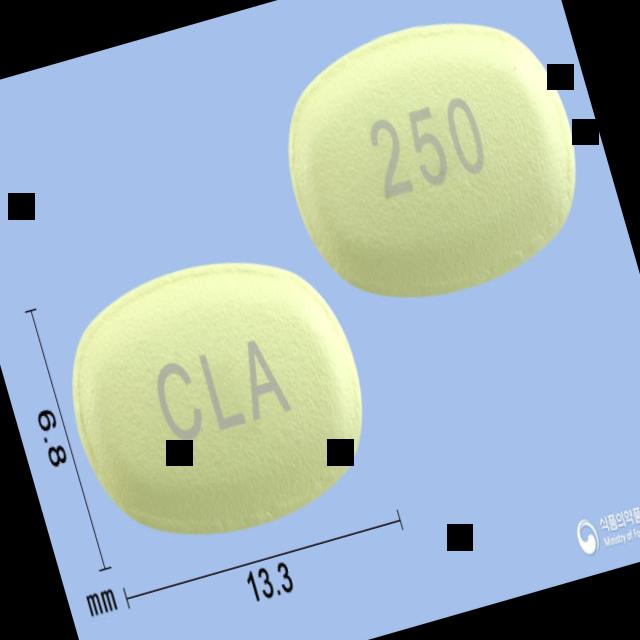C-Clarin: (42, 227, 390, 564), (258, 0, 604, 325)
